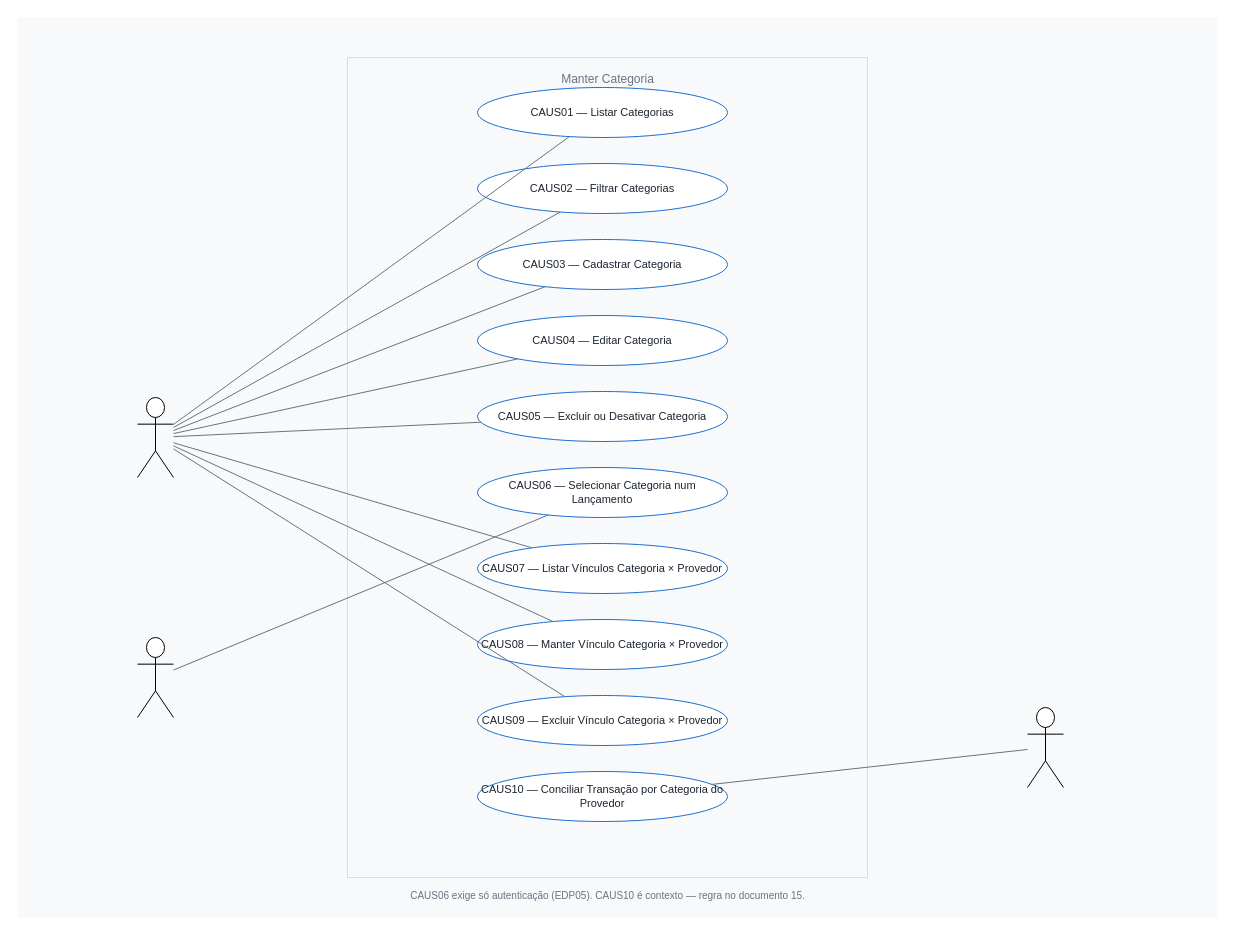
Some shapes in this 1234 by 934 pixel diagram are drawn without their labels. Each missing label, with the centre of its shape:
ADMIN (PERF01): the point at 155,437
Sistema (job de conciliação): the point at 1045,747
Usuário autenticado (PERF01 / PERF02): the point at 155,677
